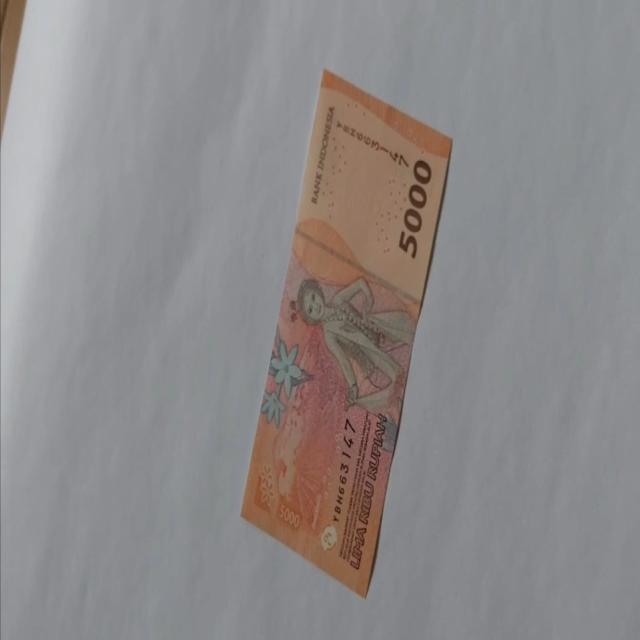lima ribu rupiah: (239, 66, 453, 598)
